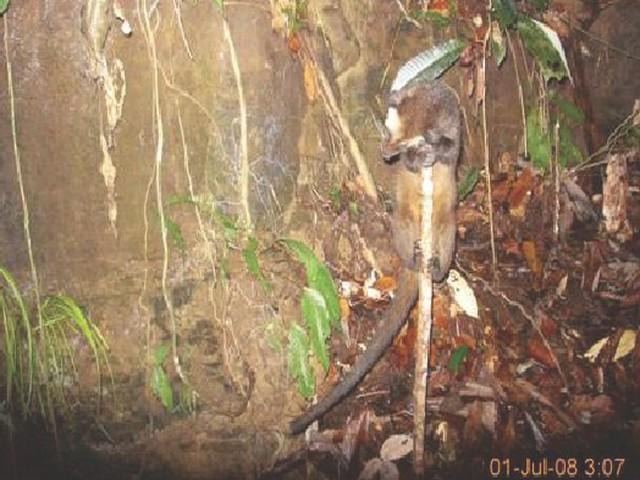civet: (357, 78, 486, 356)
